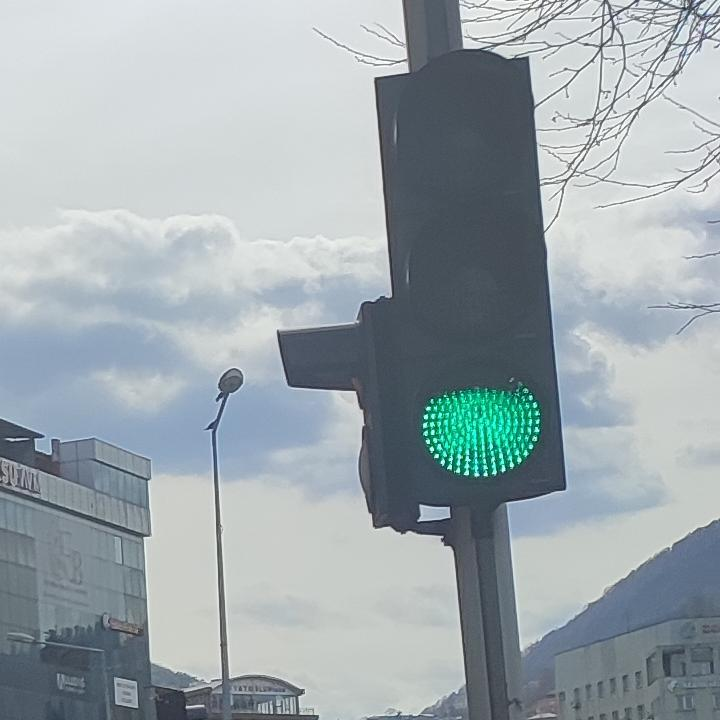green: (368, 47, 565, 509)
